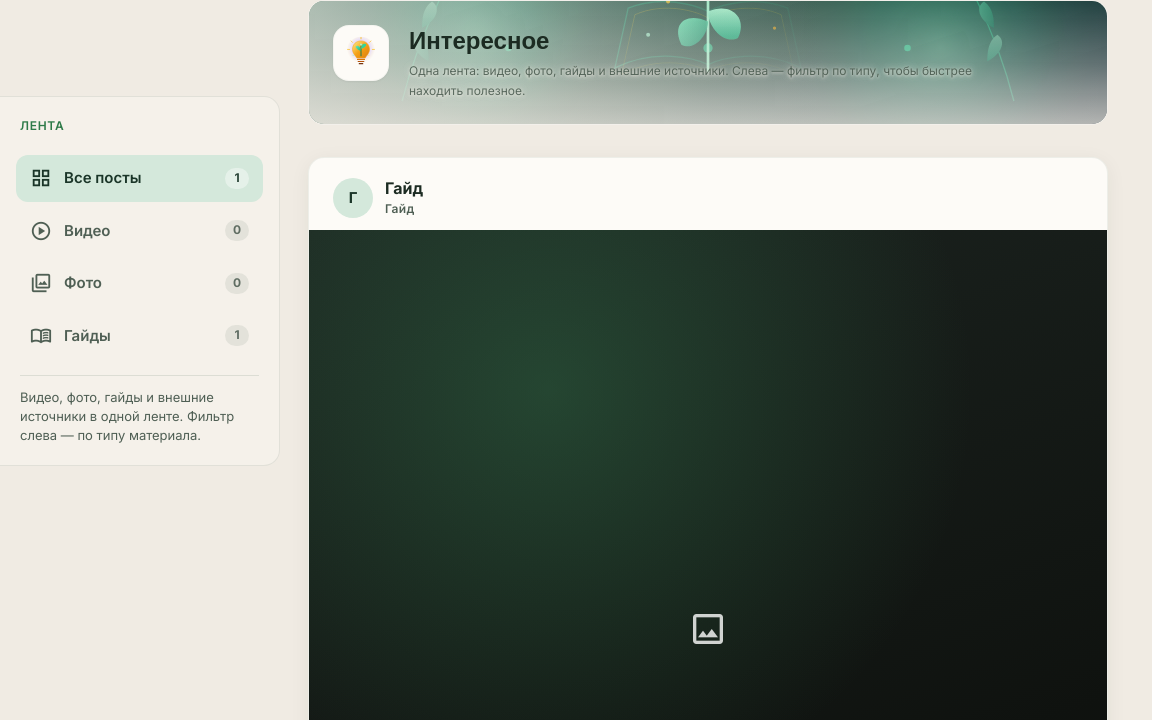
Test: UsefulFeedClient Component › shows empty state when no posts match filter
The width and height of the screenshot is (1152, 720).
Step 1. Click the button "Видео 0" → (140, 231), box [16,208,263,254]
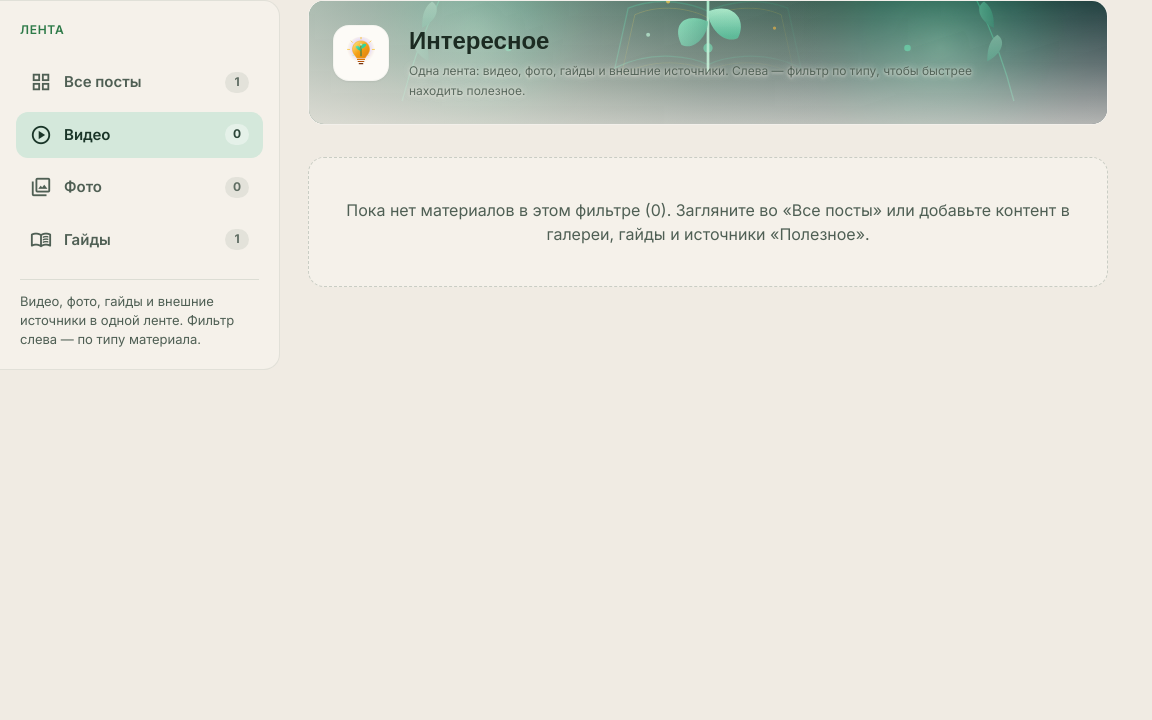
Expected: the text "Пока нет материалов в этом фильтре" is shown, [346,200,1070,244]
